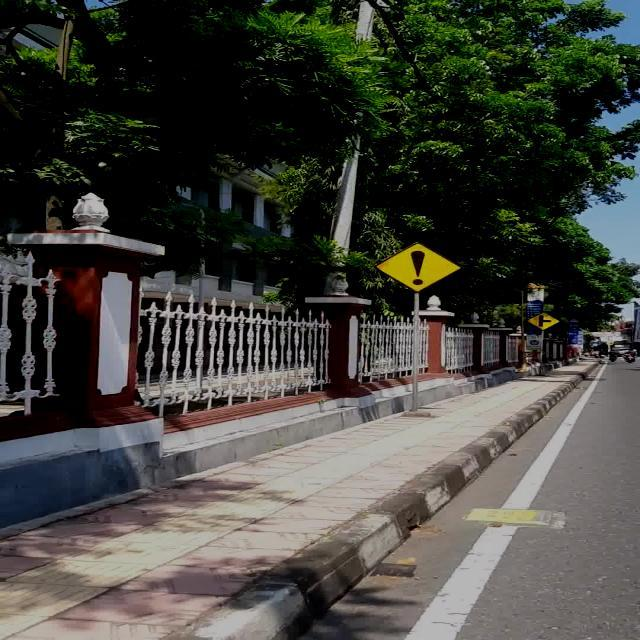Hati-Hati: (373, 241, 462, 292)
